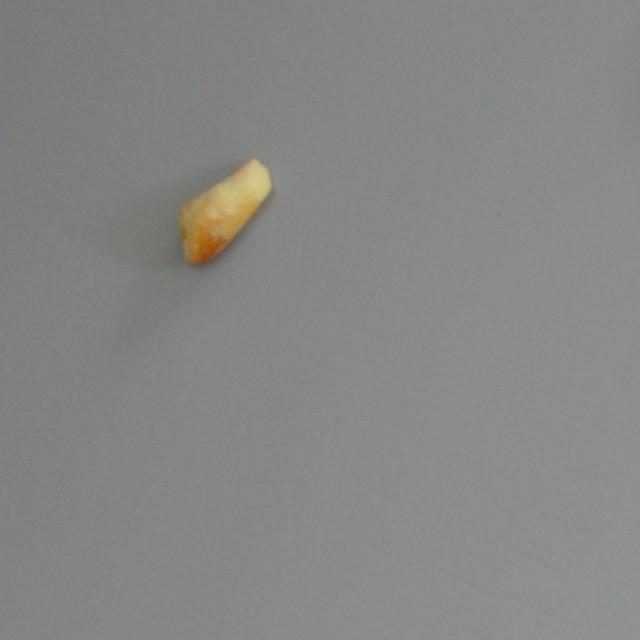dañado: (173, 152, 276, 270)
